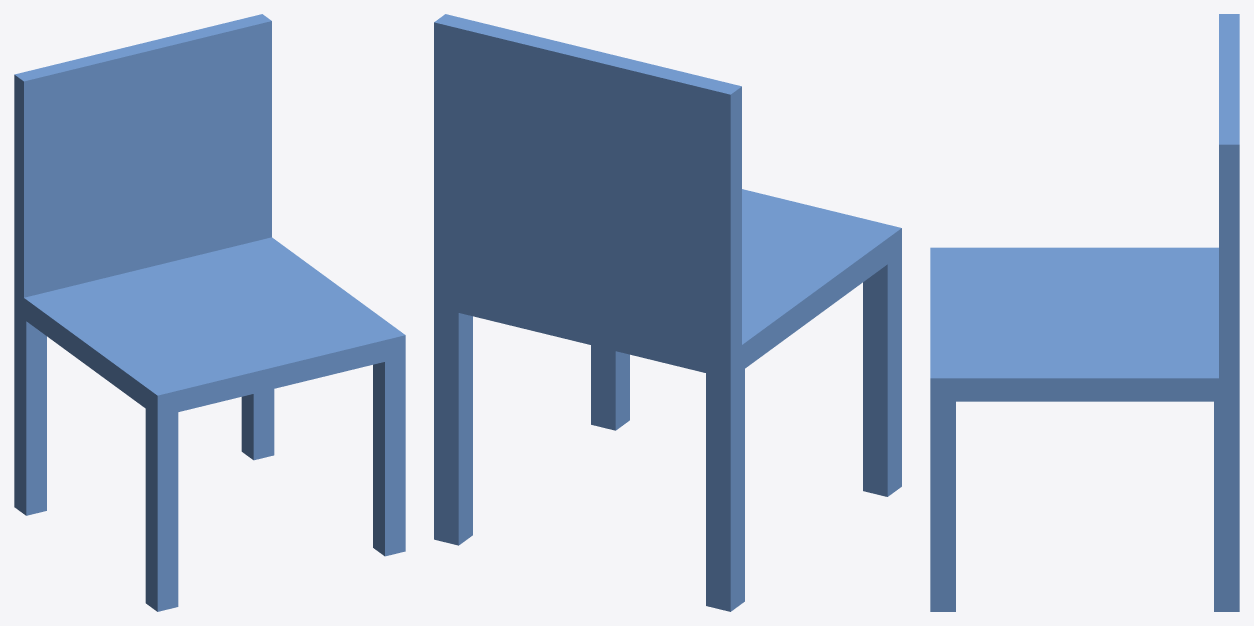
The model's file is chair.glb.
3 renders of one model, left to right at view 1: azimuth 30°, elevation 25°; view 2: azimuth 150°, elevation 25°; view 3: azimuth 270°, elevation 25°, orthographic. The views are drawn at different scales.
Visible parts, largest first — view 1: world; view 2: world; view 3: world.
Boxes of the visible parts, left/top/right/bottom form: world: left=14, top=14, right=405, bottom=611; world: left=434, top=14, right=901, bottom=611; world: left=930, top=14, right=1239, bottom=611.
Bounding box in the file's own units: 0.6 × 1 × 0.6.
